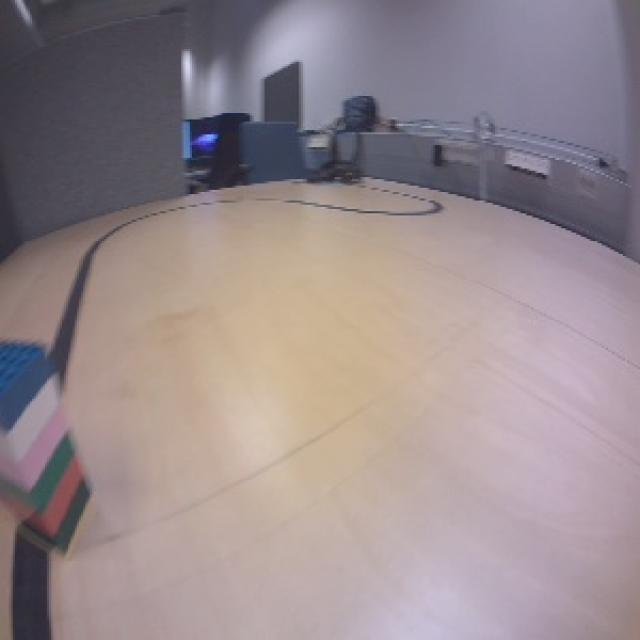obstacle: (1, 334, 98, 564)
